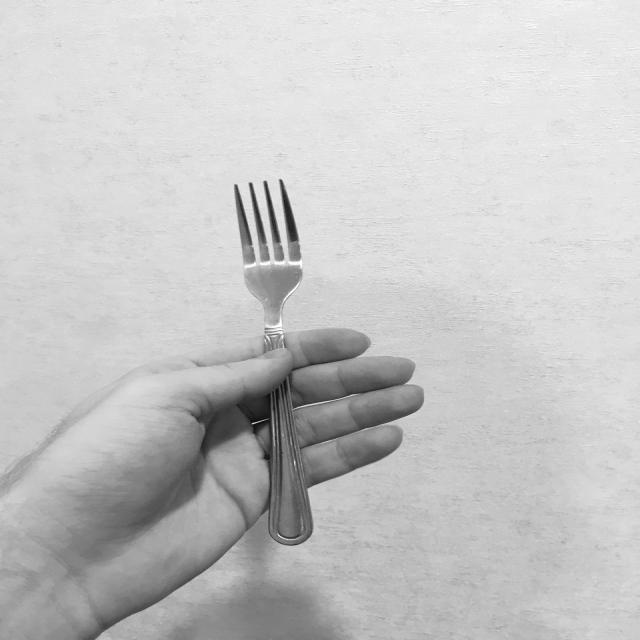fork: (234, 179, 314, 546)
